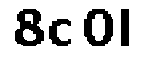0: (81, 4, 116, 52)
8: (11, 1, 47, 52)
I: (120, 4, 134, 52)
c: (49, 15, 76, 49)
